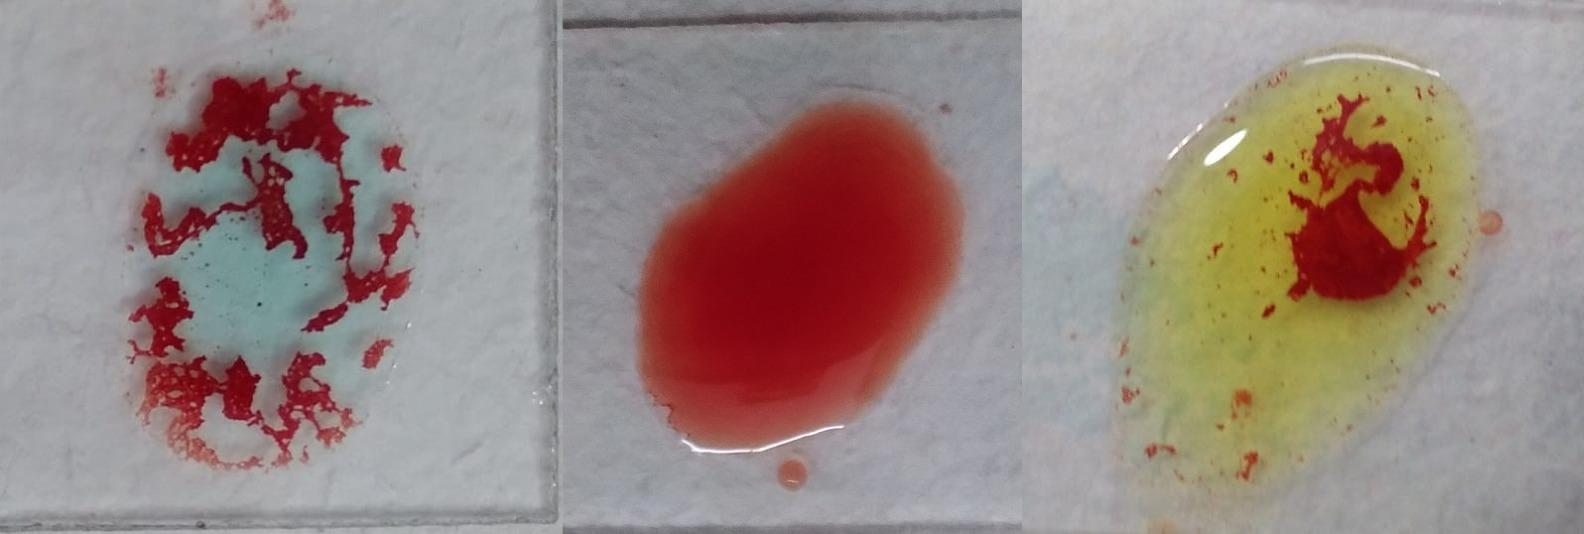A: (123, 41, 414, 472)
B: (1131, 51, 1470, 492)
